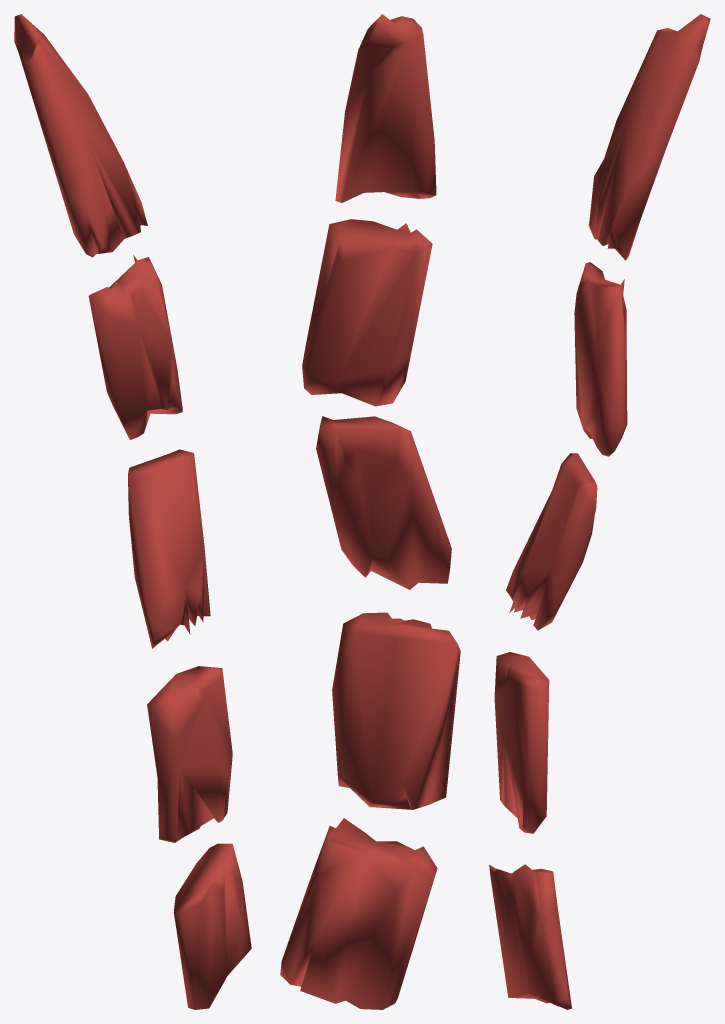
Rendered from musculos-dorsal-parts-of-lateral-intertransversarii-lumborum-muscles-l.glb.
3 renders of one model, left to right at view 1: azimuth 30°, elevation 25°; view 2: azimuth 150°, elevation 25°; view 3: azimuth 270°, elevation 25°, orthographic. The views are drawn at different scales.
Visible parts, largest first — view 1: Dorsal parts of lateral intertransversarii lumborum muscles.; view 2: Dorsal parts of lateral intertransversarii lumborum muscles.; view 3: Dorsal parts of lateral intertransversarii lumborum muscles..
Boxes of the visible parts, x1=… form: Dorsal parts of lateral intertransversarii lumborum muscles.: x1=14, y1=14, x2=251, y2=1009; Dorsal parts of lateral intertransversarii lumborum muscles.: x1=280, y1=14, x2=460, y2=1009; Dorsal parts of lateral intertransversarii lumborum muscles.: x1=489, y1=14, x2=710, y2=1009.
Bounding box in the file's own units: 0.0286 × 0.1502 × 0.0319.
